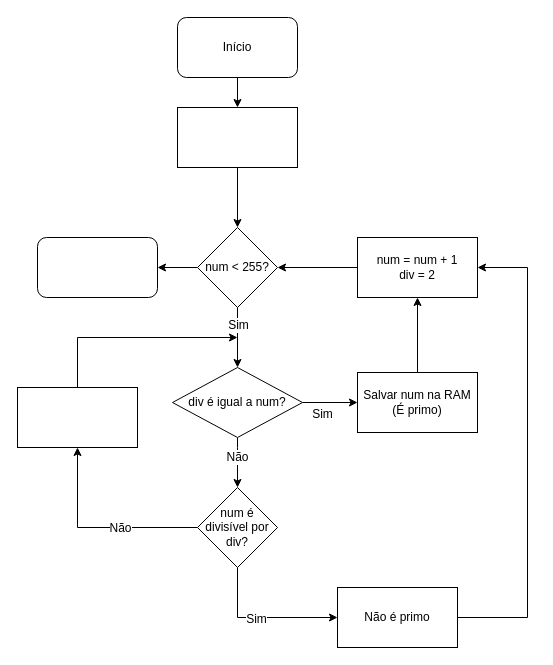
Image size: 553x665. Some labels were removed from this diagram. Here are the shapes that lost their labels. From the top down, the centre of each, then its label:
(237,137): num = 2 div = 2
(97,267): Fim
(77,417): div = div + 1
